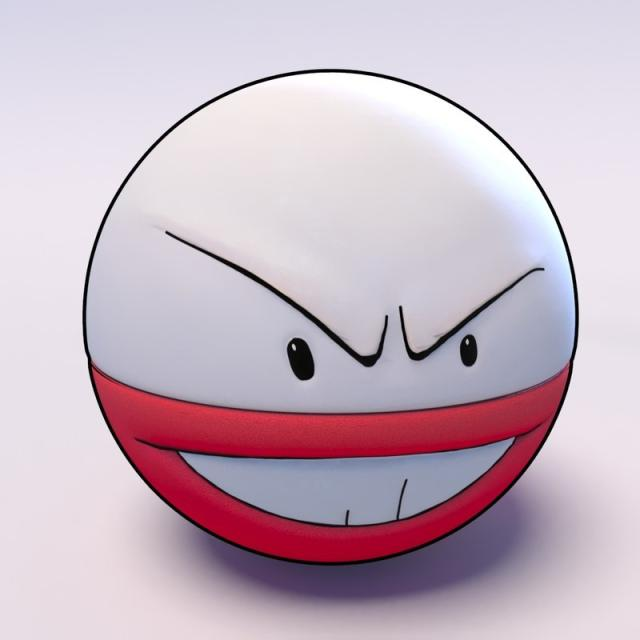Electrode: (82, 69, 581, 566)
